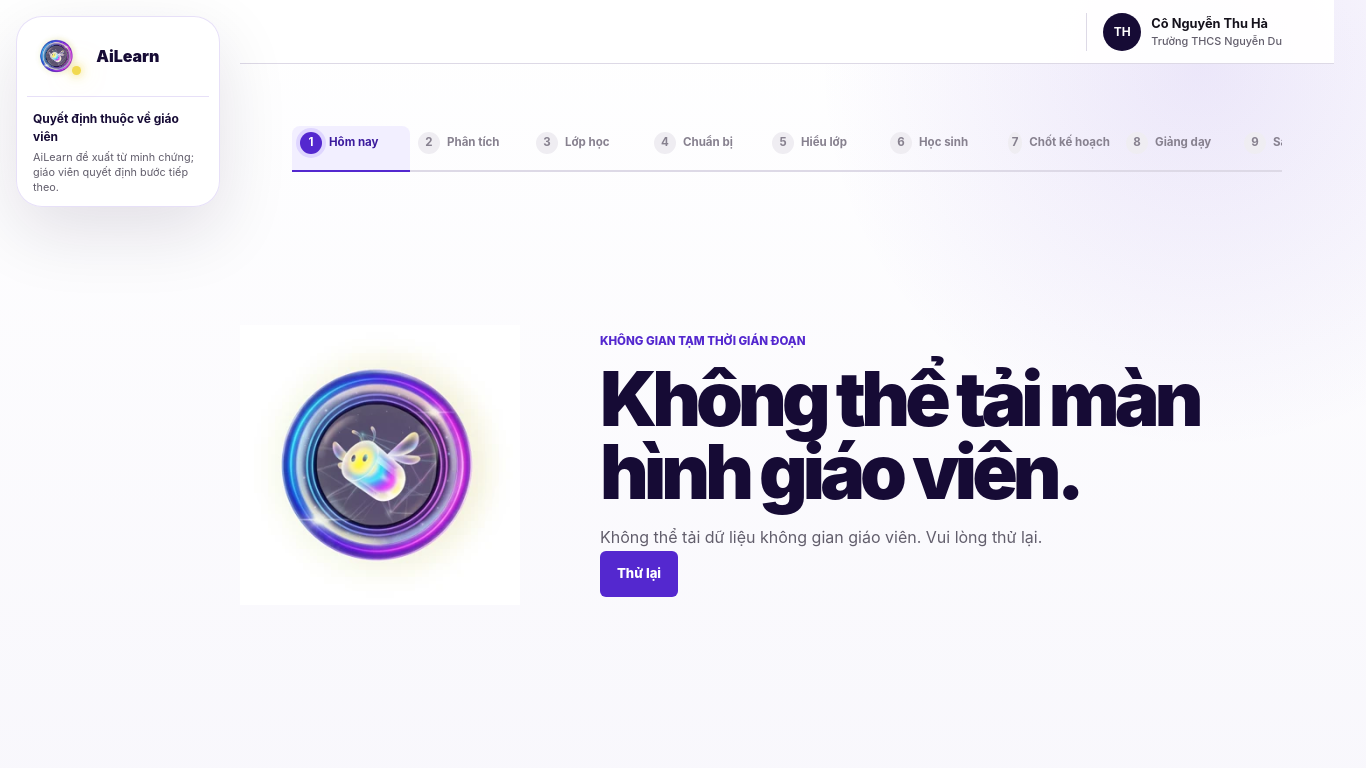
TeacherWorkspace › retries a failed overview request
Expected: the message shows "Không thể tải dữ liệu không gian giáo viên. Vui lòng thử lại.", [600, 527, 1042, 547]
Click the button "Thử lại": click(639, 574) [600, 551, 678, 597]
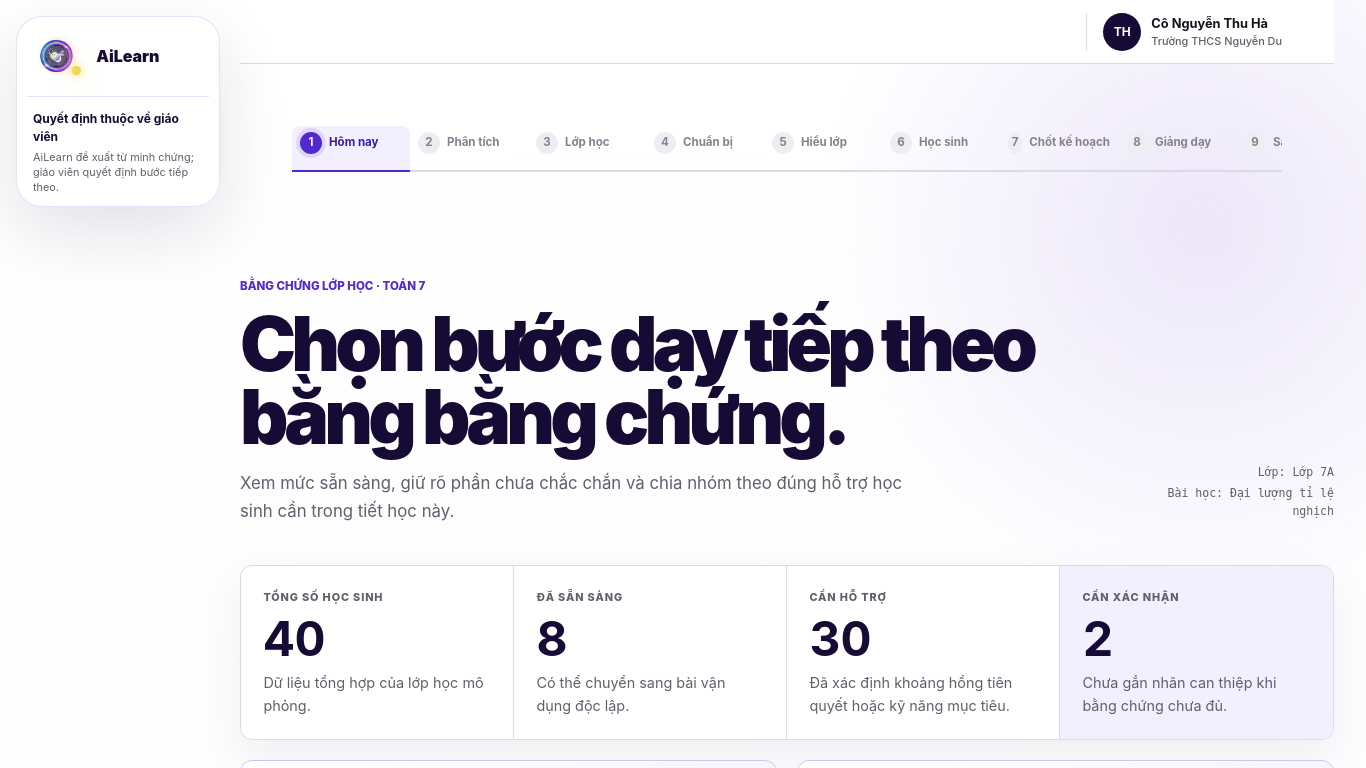
Result: the heading "Chọn bước dạy tiếp theo bằng bằng chứng." is shown at [240, 307, 1108, 454]
